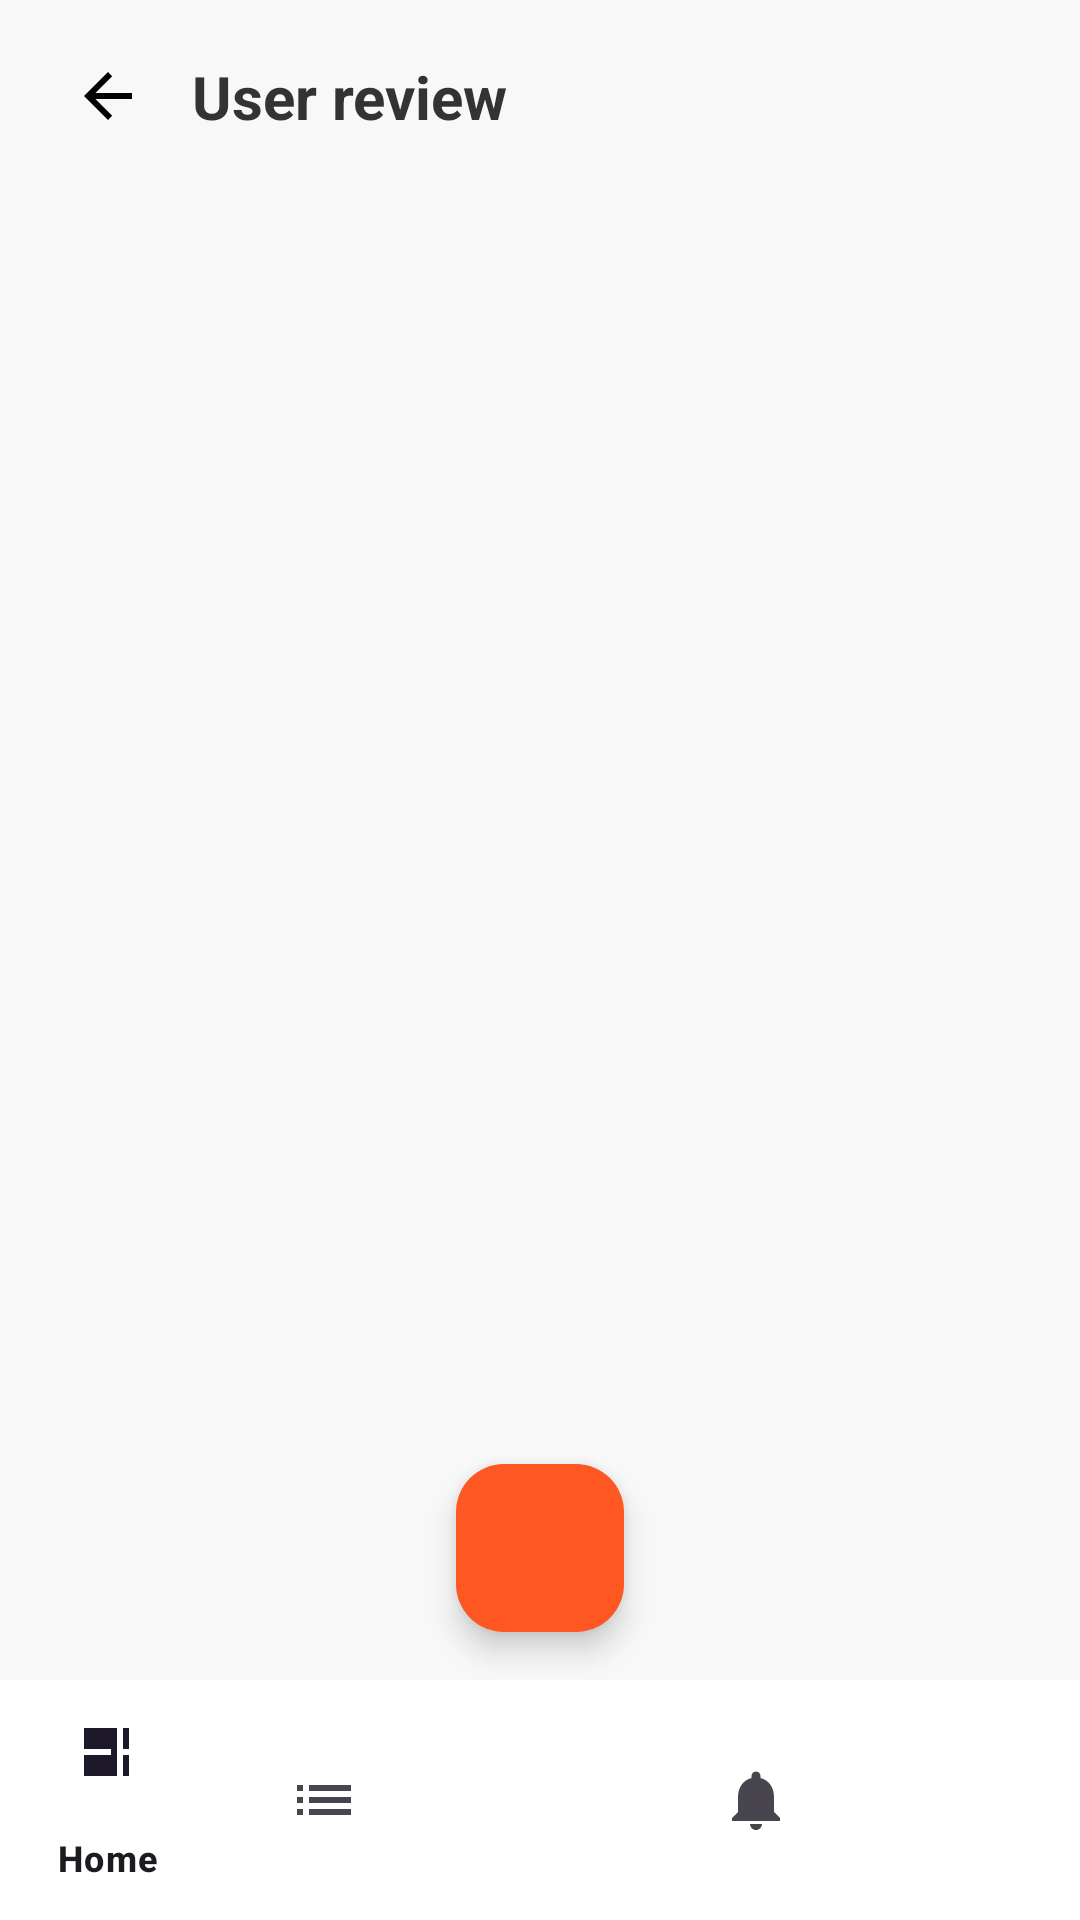

Named icons in this screenshot (1080w x 1920h) and their centers, [x,y]:
Back button: [108,96]
